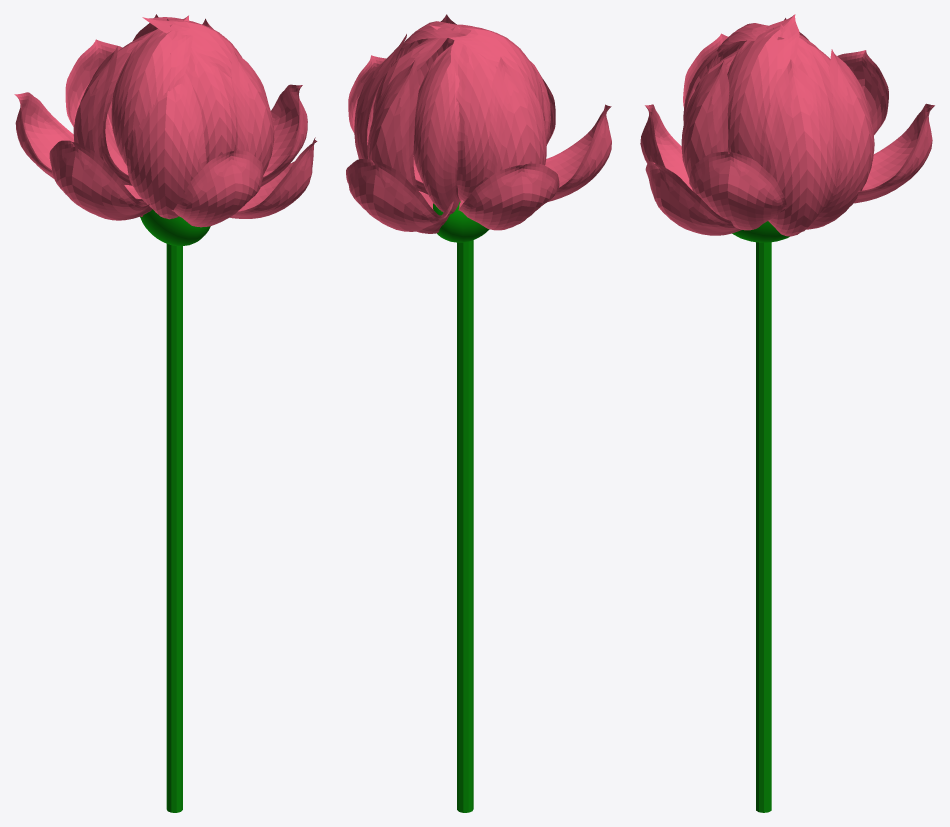
File: Lotus044.fbx
3 views of the same model, side by side, from view 1: azimuth 30°, elevation 25°; view 2: azimuth 150°, elevation 25°; view 3: azimuth 270°, elevation 25° (orthographic).
Visible parts, largest first — view 1: pCylinder1, nurbsToPoly16, nurbsToPoly21, nurbsToPoly11, nurbsToPoly8, nurbsToPoly18, nurbsToPoly13, nurbsToPoly12, nurbsToPoly9, nurbsToPoly24, nurbsToPoly14, nurbsToPoly22 (+3 smaller); view 2: pCylinder1, nurbsToPoly23, nurbsToPoly14, nurbsToPoly20, nurbsToPoly12, nurbsToPoly10, nurbsToPoly17, nurbsToPoly11, nurbsToPoly21, nurbsToPoly15, nurbsToPoly22, nurbsToPoly19 (+2 smaller); view 3: nurbsToPoly15, pCylinder1, nurbsToPoly22, nurbsToPoly9, nurbsToPoly17, nurbsToPoly13, nurbsToPoly10, nurbsToPoly24, nurbsToPoly8, nurbsToPoly12, nurbsToPoly19, nurbsToPoly21 (+3 smaller).
Boxes of the visible parts, x1,y1,x2,y2 form: pCylinder1: (166, 244, 182, 812); nurbsToPoly16: (126, 53, 206, 219); nurbsToPoly21: (111, 15, 192, 166); nurbsToPoly11: (49, 140, 152, 220); nurbsToPoly8: (172, 150, 263, 227); nurbsToPoly18: (185, 47, 237, 163); nurbsToPoly13: (231, 48, 274, 174); nurbsToPoly12: (14, 92, 73, 178); nurbsToPoly9: (261, 84, 307, 186); nurbsToPoly24: (230, 137, 317, 218); nurbsToPoly14: (73, 46, 147, 216); nurbsToPoly22: (142, 17, 242, 78); pCylinder1: (457, 240, 473, 812); nurbsToPoly23: (413, 44, 459, 213); nurbsToPoly14: (483, 57, 546, 181); nurbsToPoly20: (450, 26, 497, 201); nurbsToPoly12: (458, 163, 559, 230); nurbsToPoly10: (346, 159, 453, 231); nurbsToPoly17: (367, 59, 450, 233); nurbsToPoly11: (545, 104, 611, 201); nurbsToPoly21: (430, 24, 543, 117); nurbsToPoly15: (354, 34, 406, 159); nurbsToPoly22: (390, 21, 471, 89); nurbsToPoly19: (372, 26, 455, 194); nurbsToPoly15: (762, 59, 839, 236); pCylinder1: (756, 242, 771, 812); nurbsToPoly22: (727, 14, 799, 166); nurbsToPoly9: (689, 151, 786, 230); nurbsToPoly17: (806, 49, 874, 229); nurbsToPoly13: (681, 60, 729, 178); nurbsToPoly10: (854, 103, 934, 203); nurbsToPoly24: (645, 161, 741, 235); nurbsToPoly8: (640, 104, 692, 190); nurbsToPoly12: (837, 50, 888, 134); nurbsToPoly19: (780, 24, 834, 126); nurbsToPoly21: (708, 23, 784, 70).
Size of the model in its own units: 16.85 by 52.32 by 17.78.
